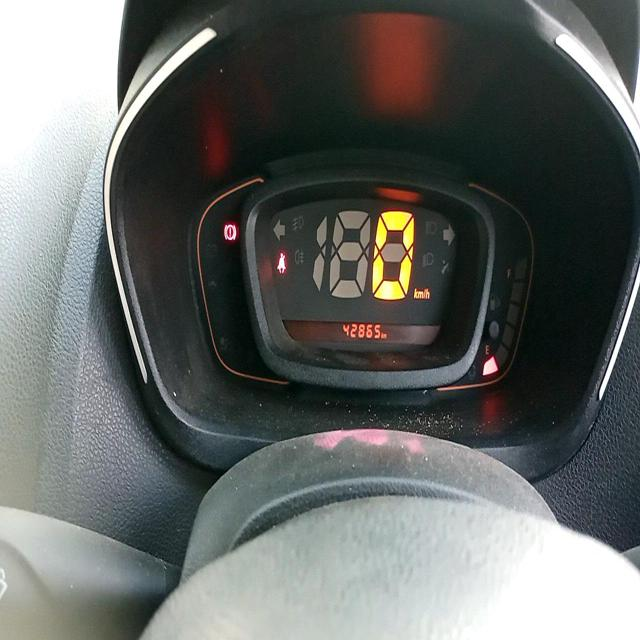odometer: (341, 320, 386, 344)
